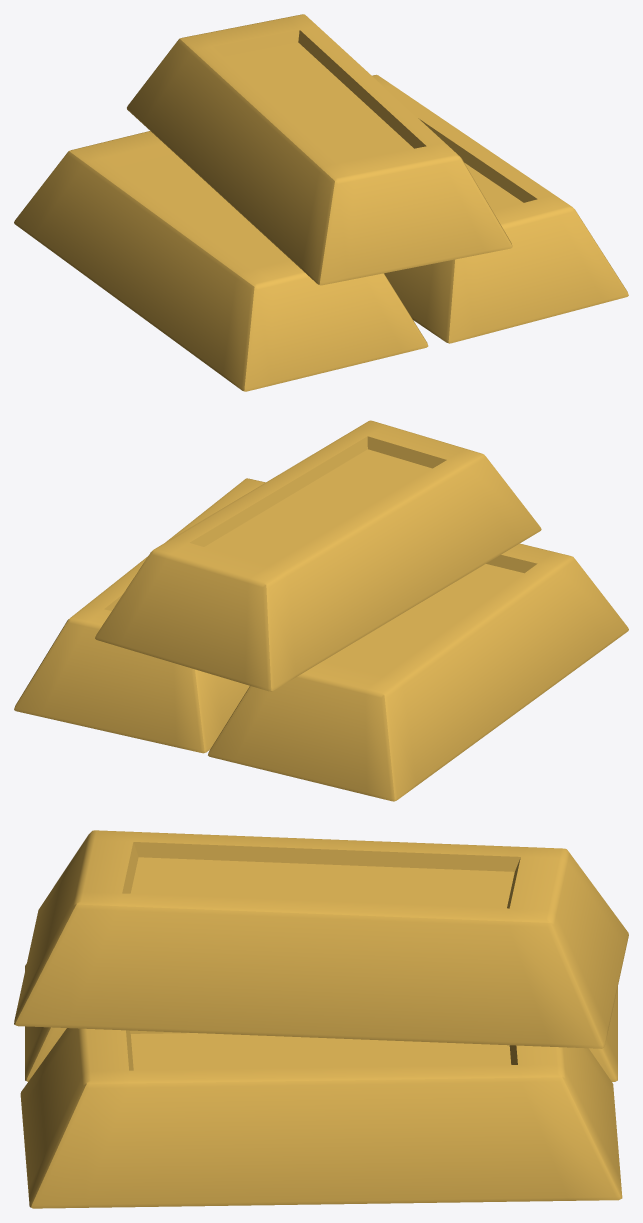
The model's file is GoldBar.fbx.
3 renders of one model, top to bottom at view 1: azimuth 30°, elevation 25°; view 2: azimuth 150°, elevation 25°; view 3: azimuth 270°, elevation 25°, orthographic. The views are drawn at different scales.
Parts seen in each view (by area): view 1: GoldBar; view 2: GoldBar; view 3: GoldBar.
Boxes of the visible parts, <box> form: GoldBar: <box>14,14,628,391</box>; GoldBar: <box>14,420,628,801</box>; GoldBar: <box>14,830,628,1208</box>.
Size of the model in its own units: 103 by 42.13 by 111.
